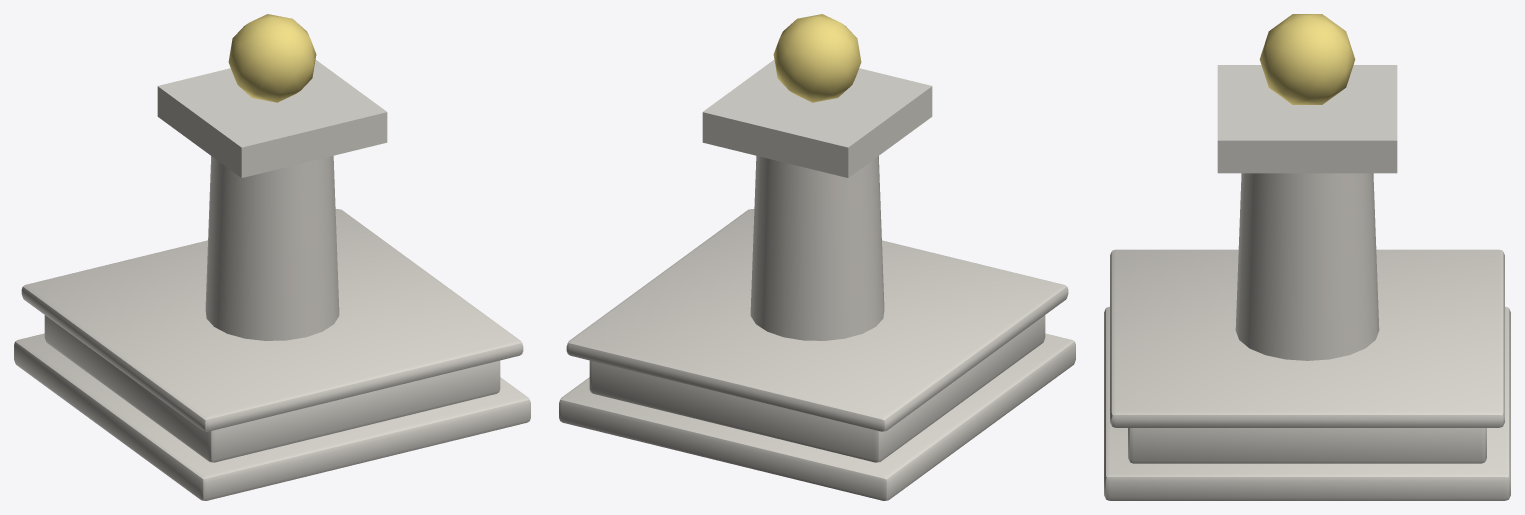
The model's file is Louvre_Peon.fbx.
3 views of the same model, side by side, from view 1: azimuth 30°, elevation 25°; view 2: azimuth 150°, elevation 25°; view 3: azimuth 270°, elevation 25° (orthographic). The views are drawn at different scales.
Parts seen in each view (by area): view 1: Louvre_Peon; view 2: Louvre_Peon; view 3: Louvre_Peon.
Boxes of the visible parts, x1,y1,x2,y2 form: Louvre_Peon: [14, 14, 530, 500]; Louvre_Peon: [559, 14, 1075, 500]; Louvre_Peon: [1104, 14, 1510, 500].
Size of the model in its own units: 0.68 by 0.74 by 0.68.
